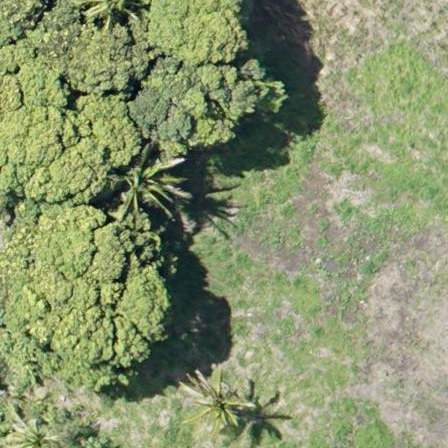palm_tree: (109, 151, 191, 224), (182, 366, 249, 437)
